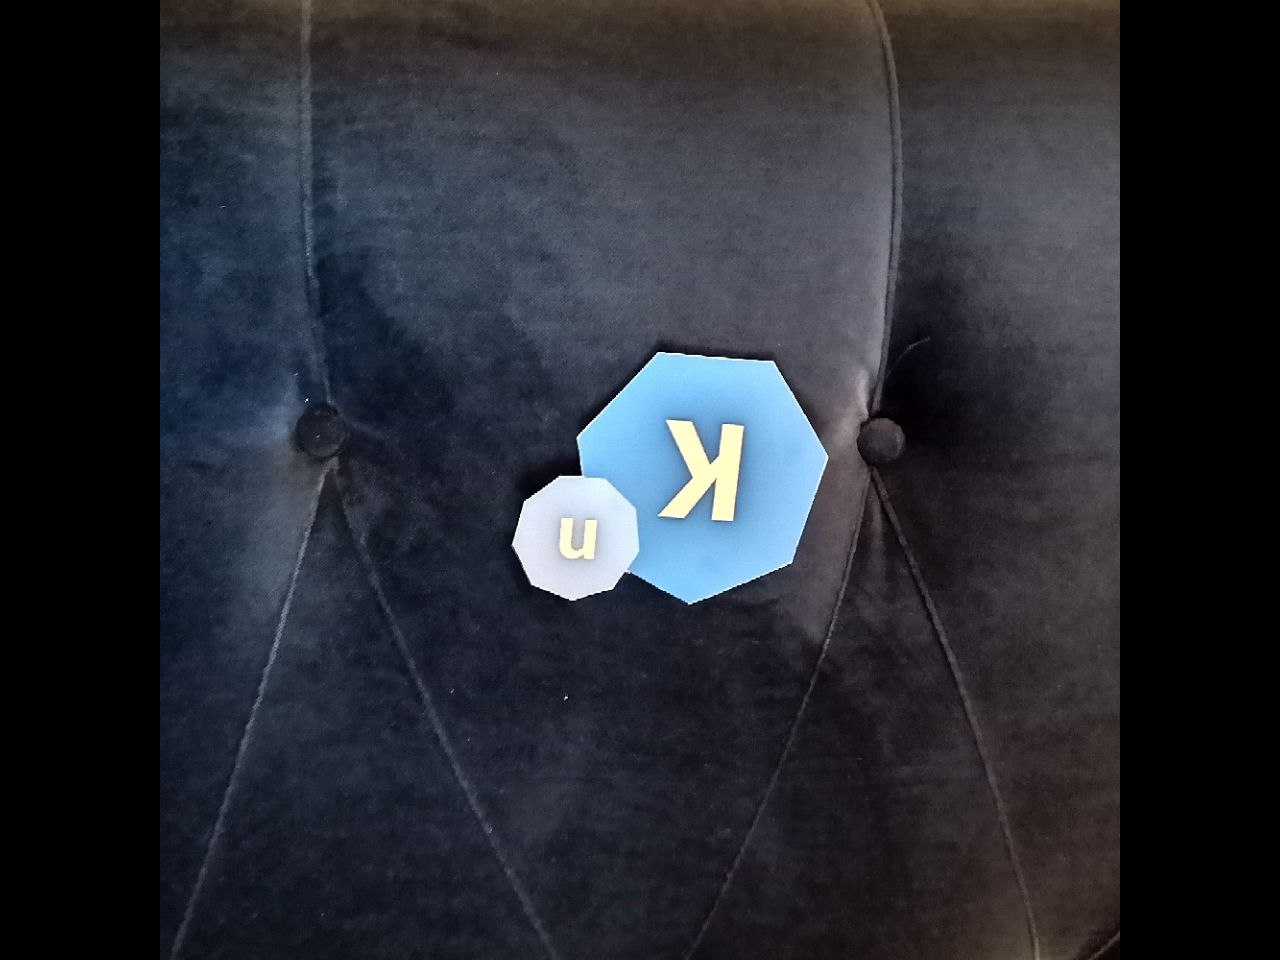knative: (507, 346, 826, 610)
